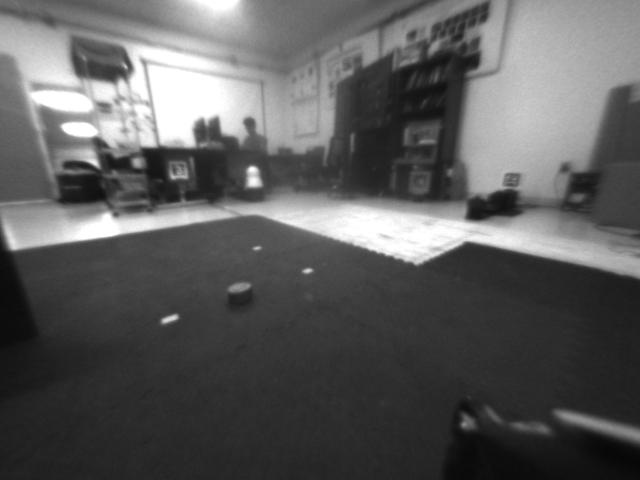dogtoy: (218, 279, 264, 307)
